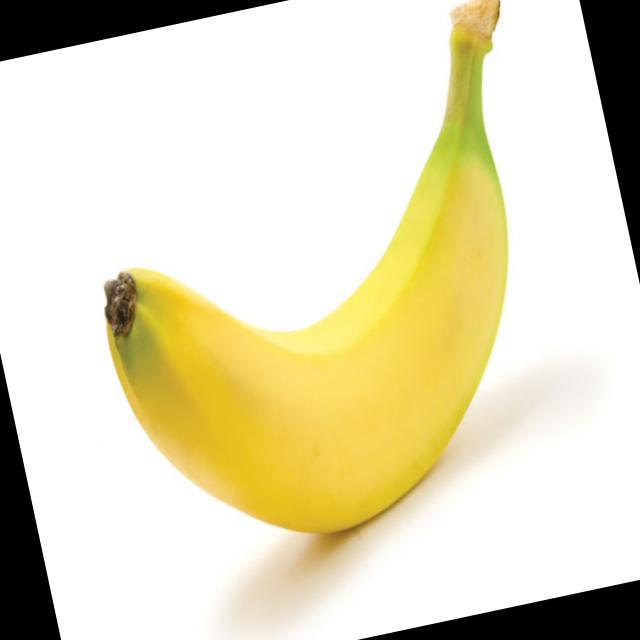banana: (59, 108, 590, 606)
